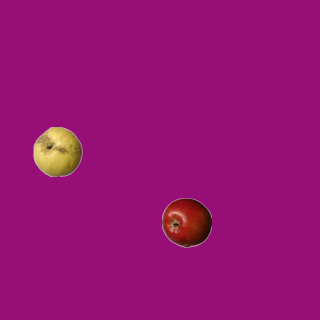Apple Braeburn: (161, 197, 211, 247)
Apple Golden 1: (32, 126, 82, 176)
